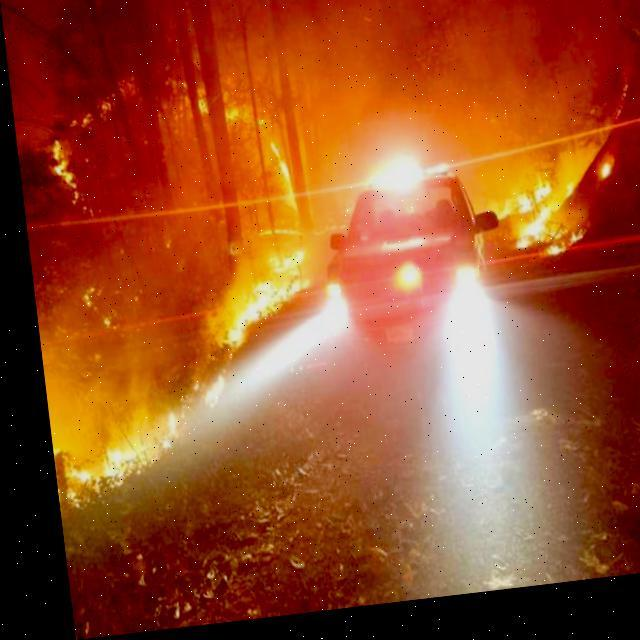Fire: (195, 84, 298, 224), (188, 233, 311, 350), (498, 176, 618, 288), (49, 406, 169, 488), (40, 132, 84, 208)
